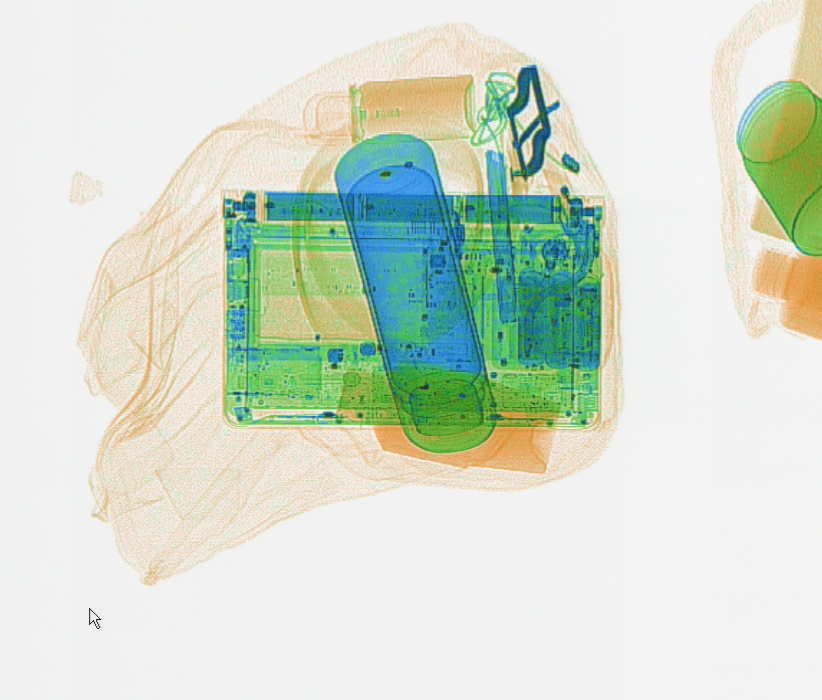knife: (481, 143, 523, 325)
powerbank: (507, 246, 608, 378)
